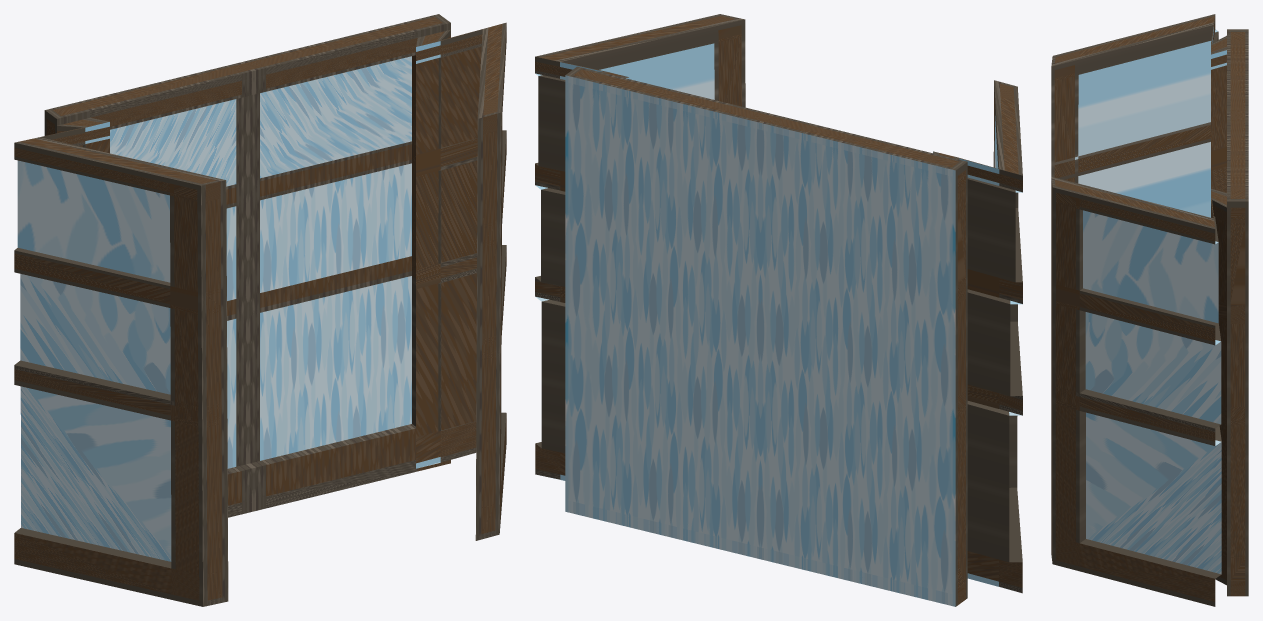
The model's file is ventana.fbx.
3 views of the same model, side by side, from view 1: azimuth 30°, elevation 25°; view 2: azimuth 150°, elevation 25°; view 3: azimuth 270°, elevation 25° (orthographic). The views are drawn at different scales.
Visible parts, largest first — view 1: Plano.021; view 2: Plano.021; view 3: Plano.021.
Boxes of the visible parts, x1,y1,x2,y2 form: Plano.021: (14,14,506,606); Plano.021: (535,14,1022,606); Plano.021: (1051,14,1248,606).
Bounding box in the file's own units: 534 × 456 × 207.
